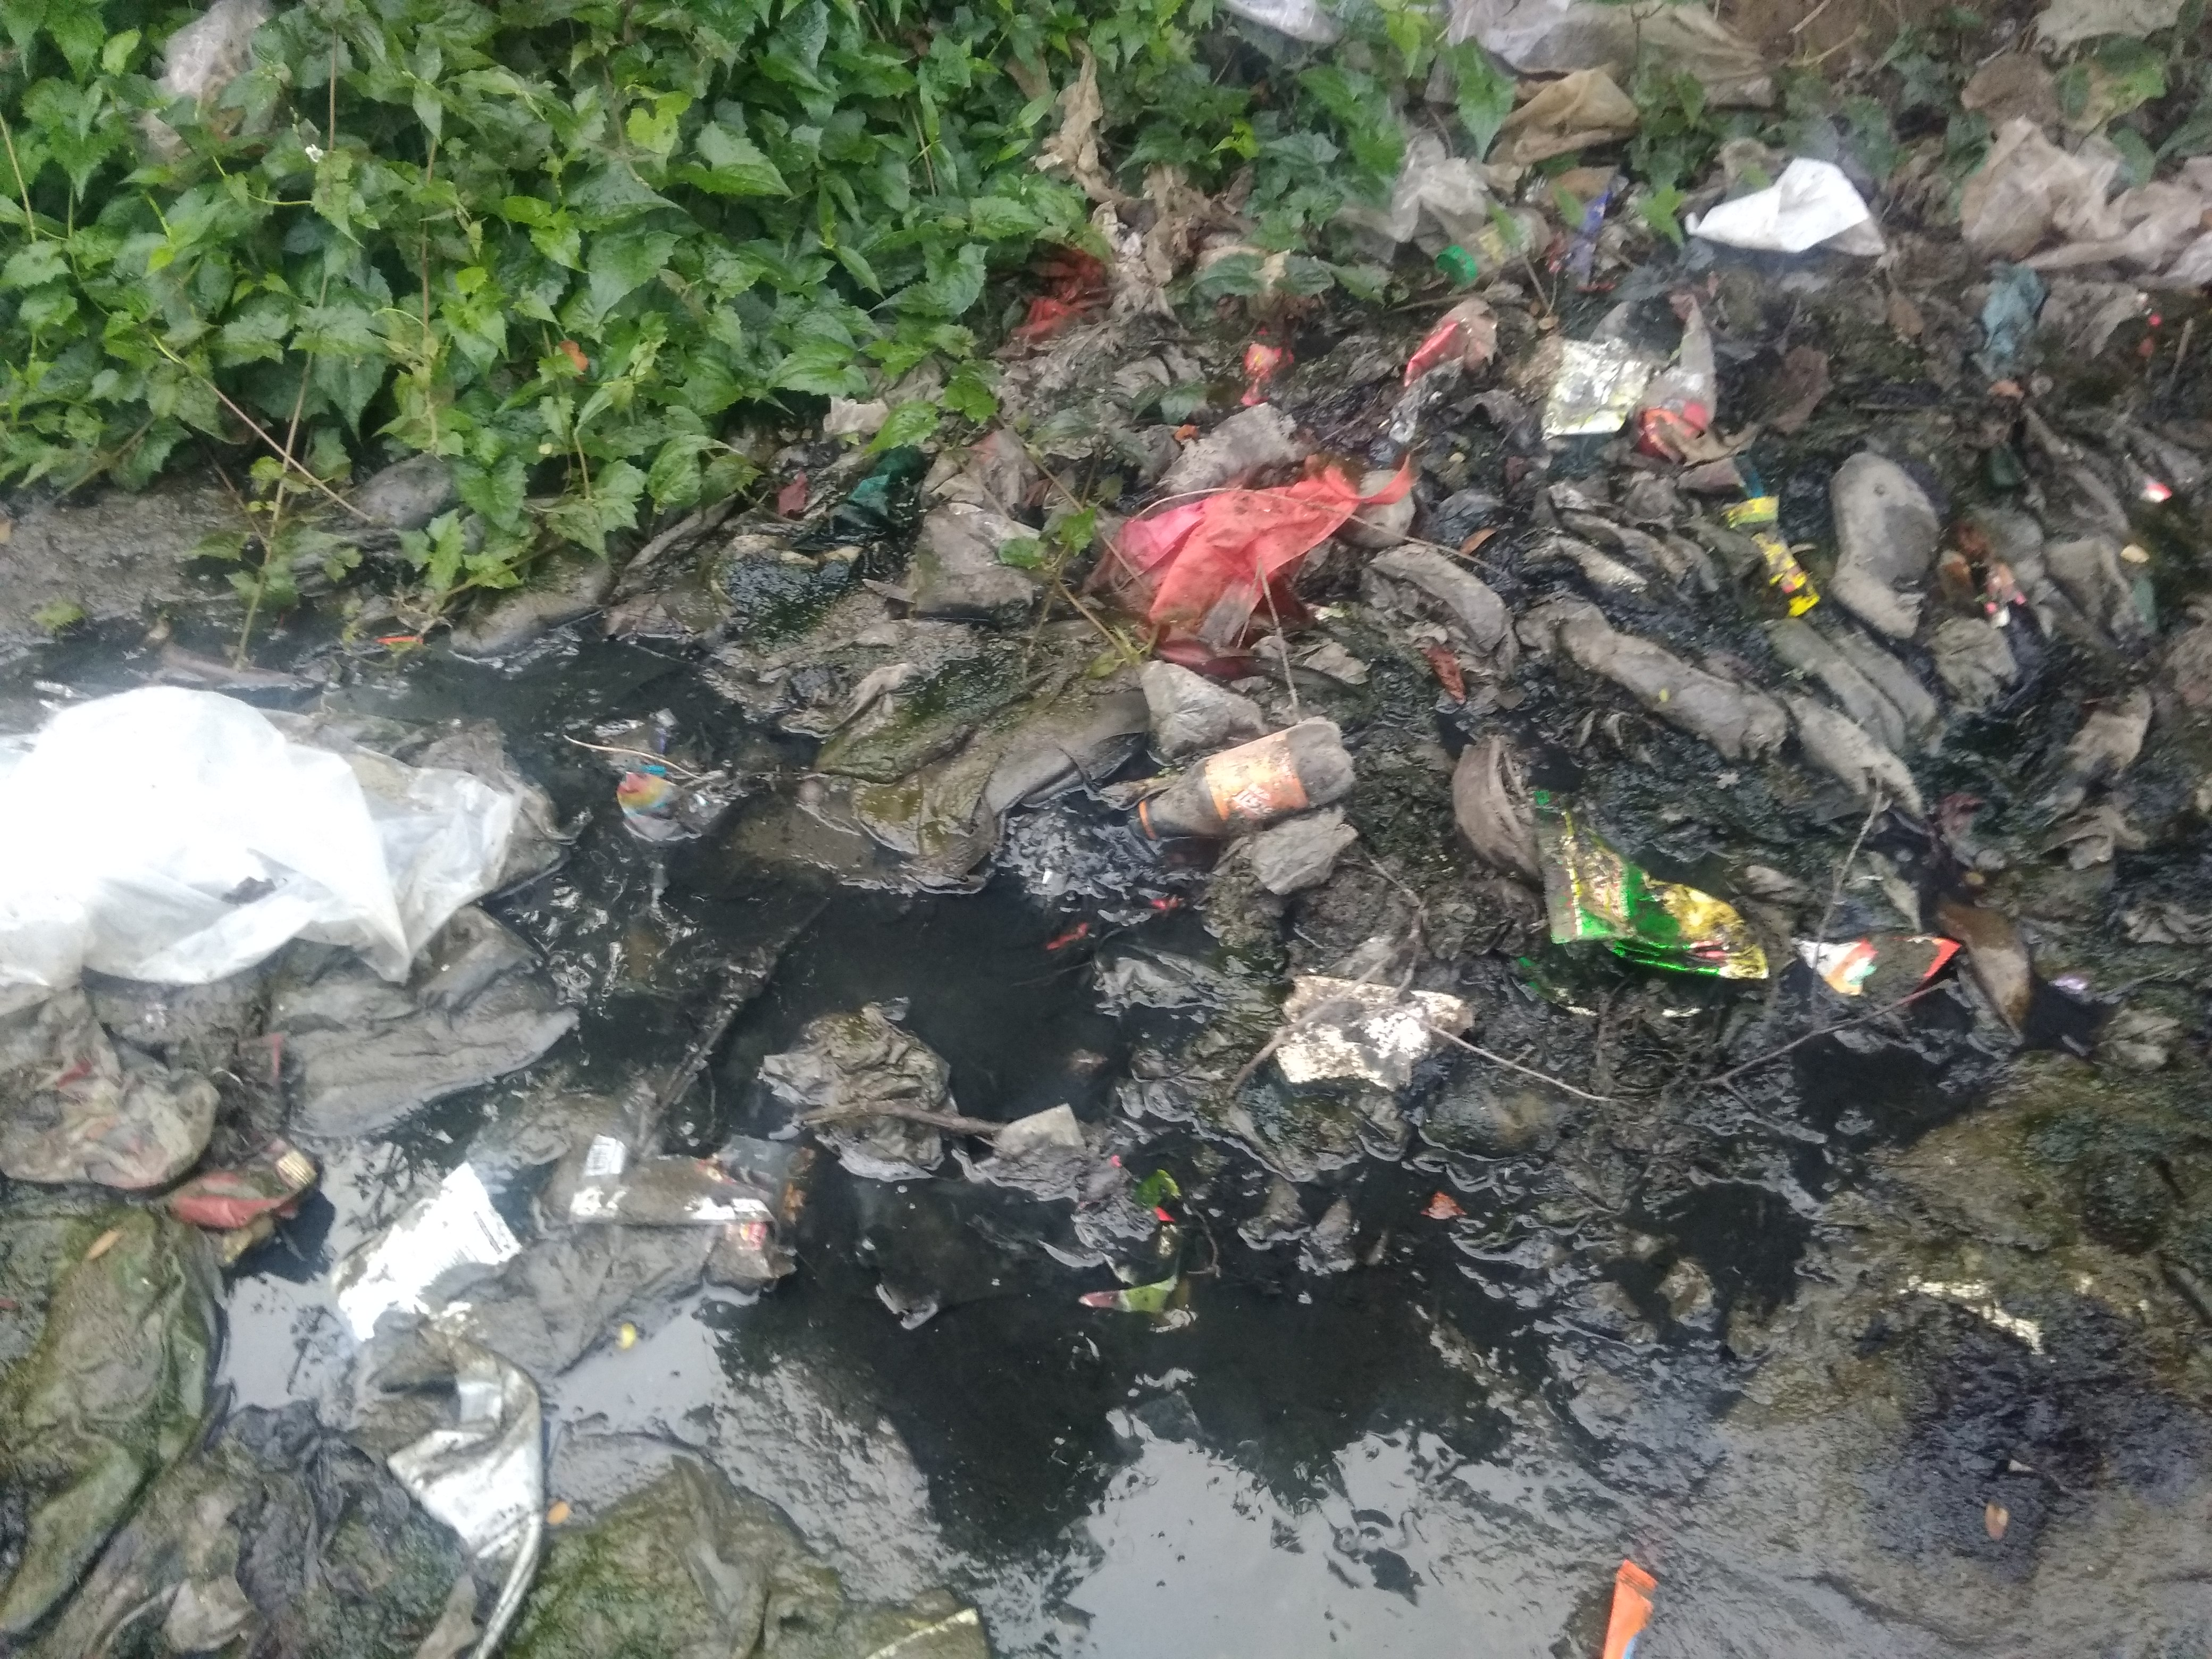Plastic Bottle: (1125, 716, 1355, 838), (287, 450, 453, 587), (1439, 207, 1545, 282)
